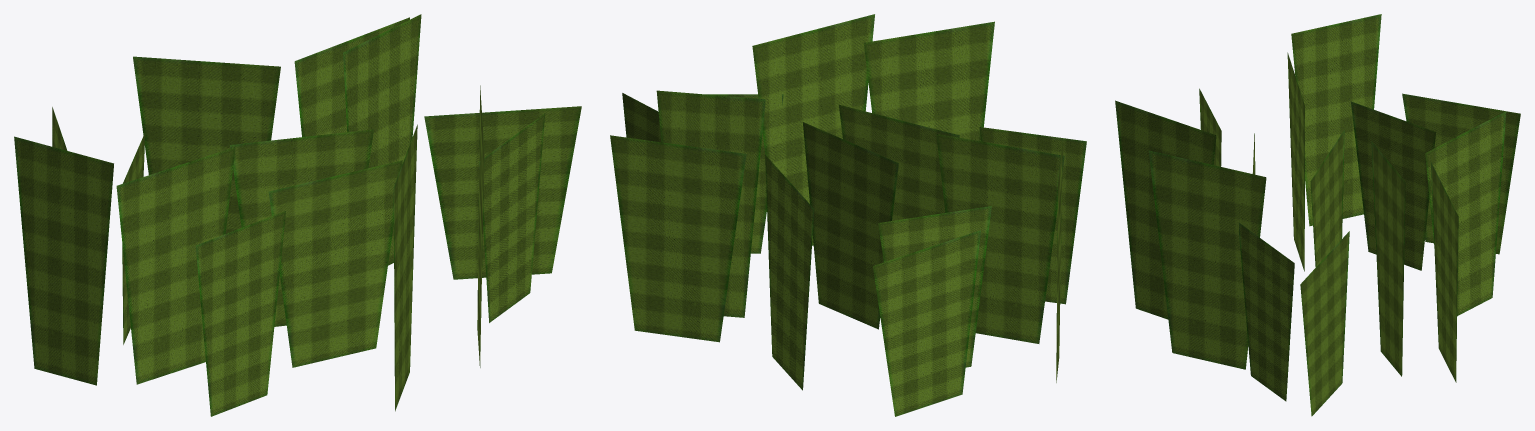
File: lpb_cs_Grass2.fbx
The picture shows the model from 3 angles, left to right: view 1: azimuth 30°, elevation 25°; view 2: azimuth 150°, elevation 25°; view 3: azimuth 270°, elevation 25°; orthographic projection. The views are drawn at different scales.
Visible parts, largest first — view 1: lpb_cs_Grass2; view 2: lpb_cs_Grass2; view 3: lpb_cs_Grass2.
Part boxes in pixels (left/top/right/bottom): lpb_cs_Grass2: left=14, top=14, right=581, bottom=416; lpb_cs_Grass2: left=610, top=14, right=1086, bottom=416; lpb_cs_Grass2: left=1115, top=14, right=1520, bottom=416.
Size of the model in its own units: 49 by 21.38 by 38.66.
